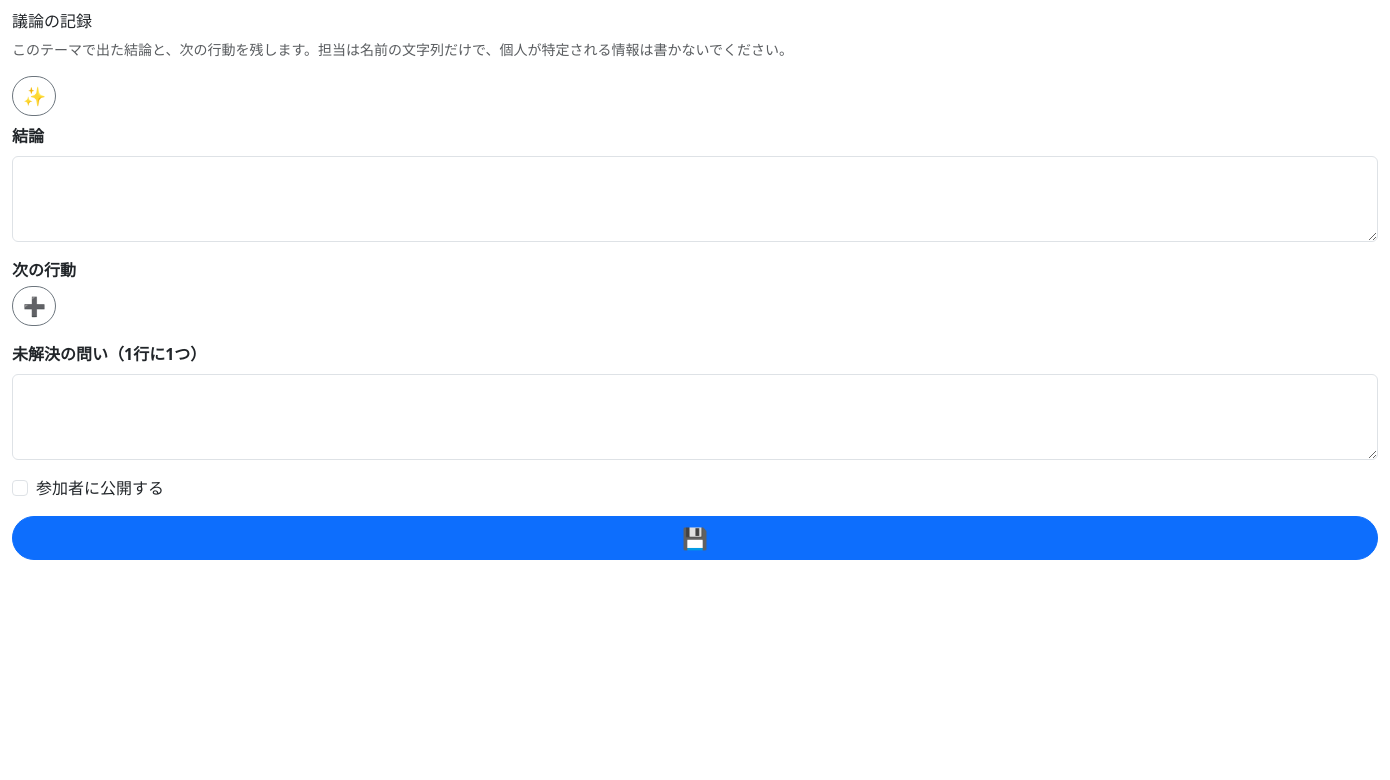
Test: NotesEditor: 要約からの下書き › 確認して保存すると、注意は消える。取り込んだだけでは、公開の状態は変わらない
Click the button named "要約から下書きを取り込む". click: [34, 96]
box: [12,76,56,116]
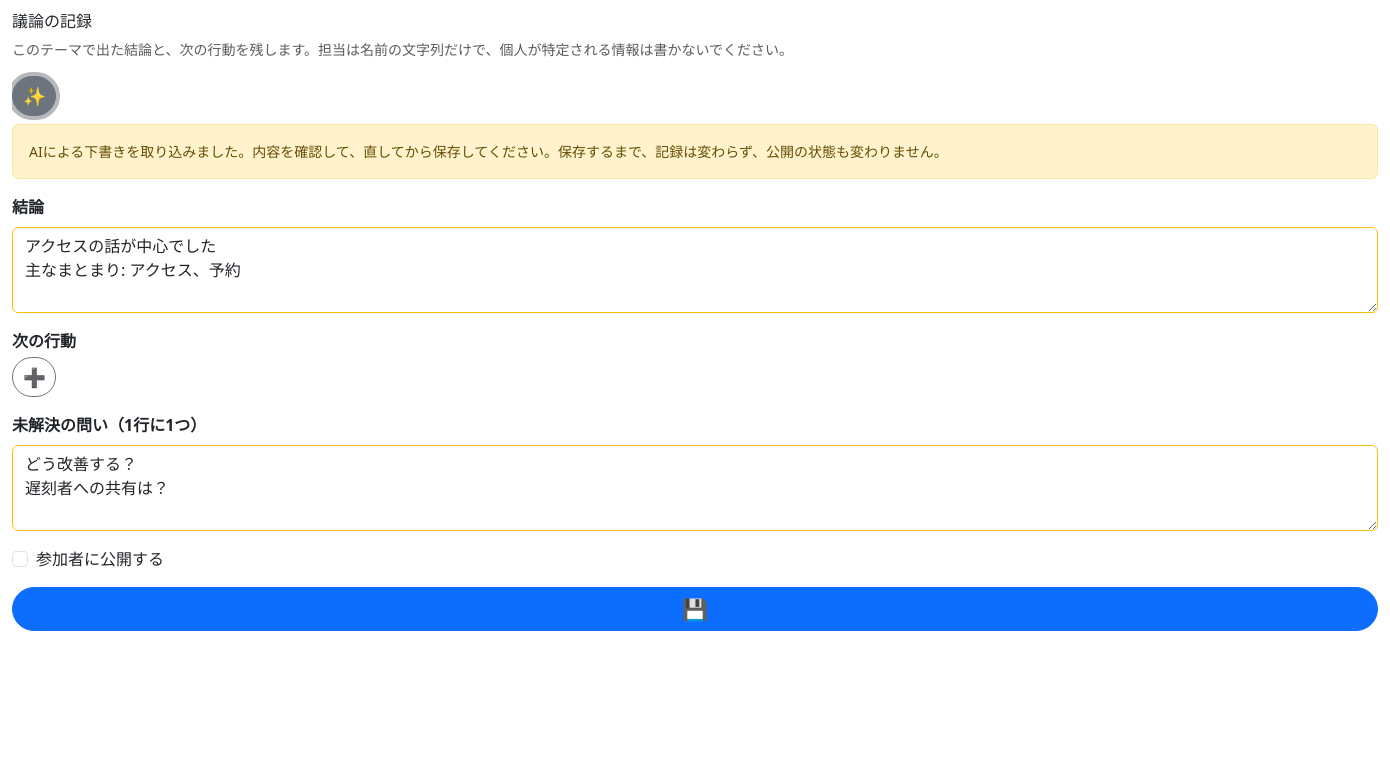
Click the button named "記録を保存する". click: [695, 609]
box: [12,587,1378,631]
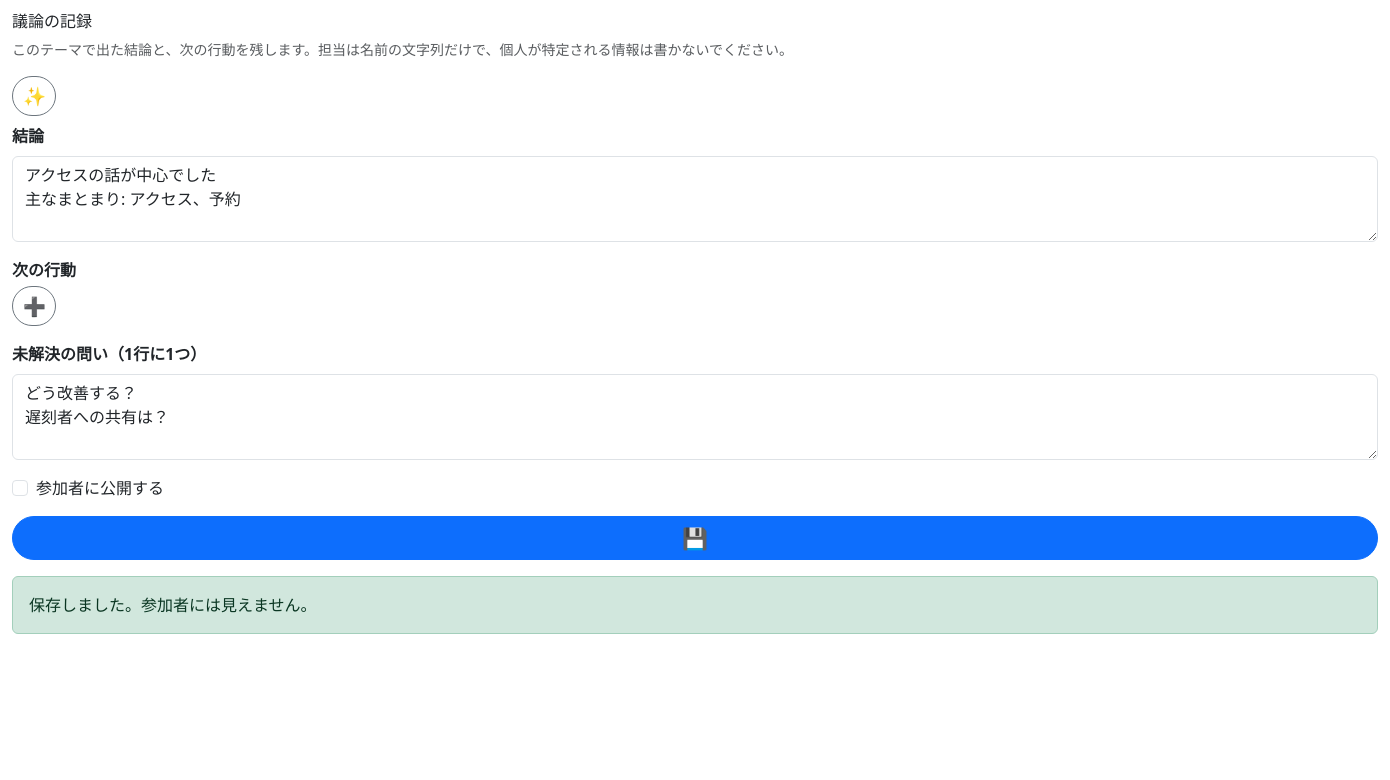
Expected: the text "保存しました。参加者には見えません。" is shown, [12,576,1378,634]
Expected: the text "AIによる下書きを取り込みました" is gone
